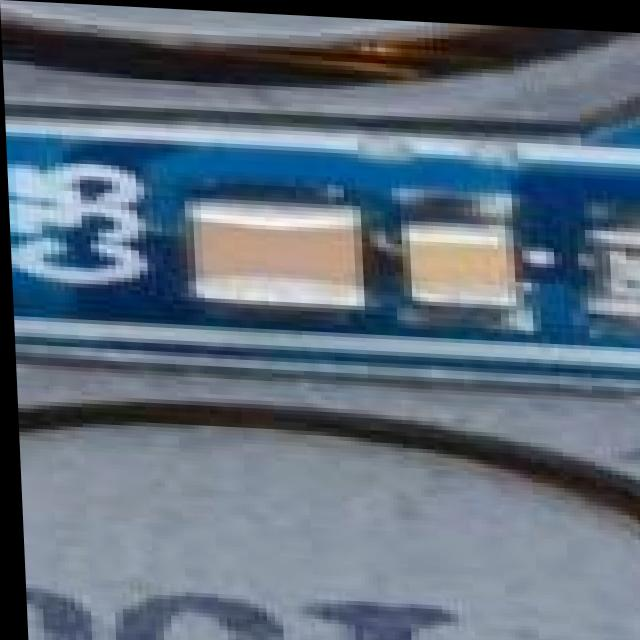capacitor: (126, 189, 391, 329), (379, 203, 530, 317)
inductor: (12, 344, 640, 640), (0, 0, 640, 130)
resistor: (587, 220, 640, 310)
